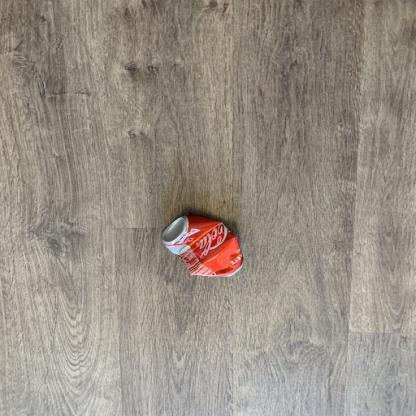trash: (160, 212, 245, 284)
